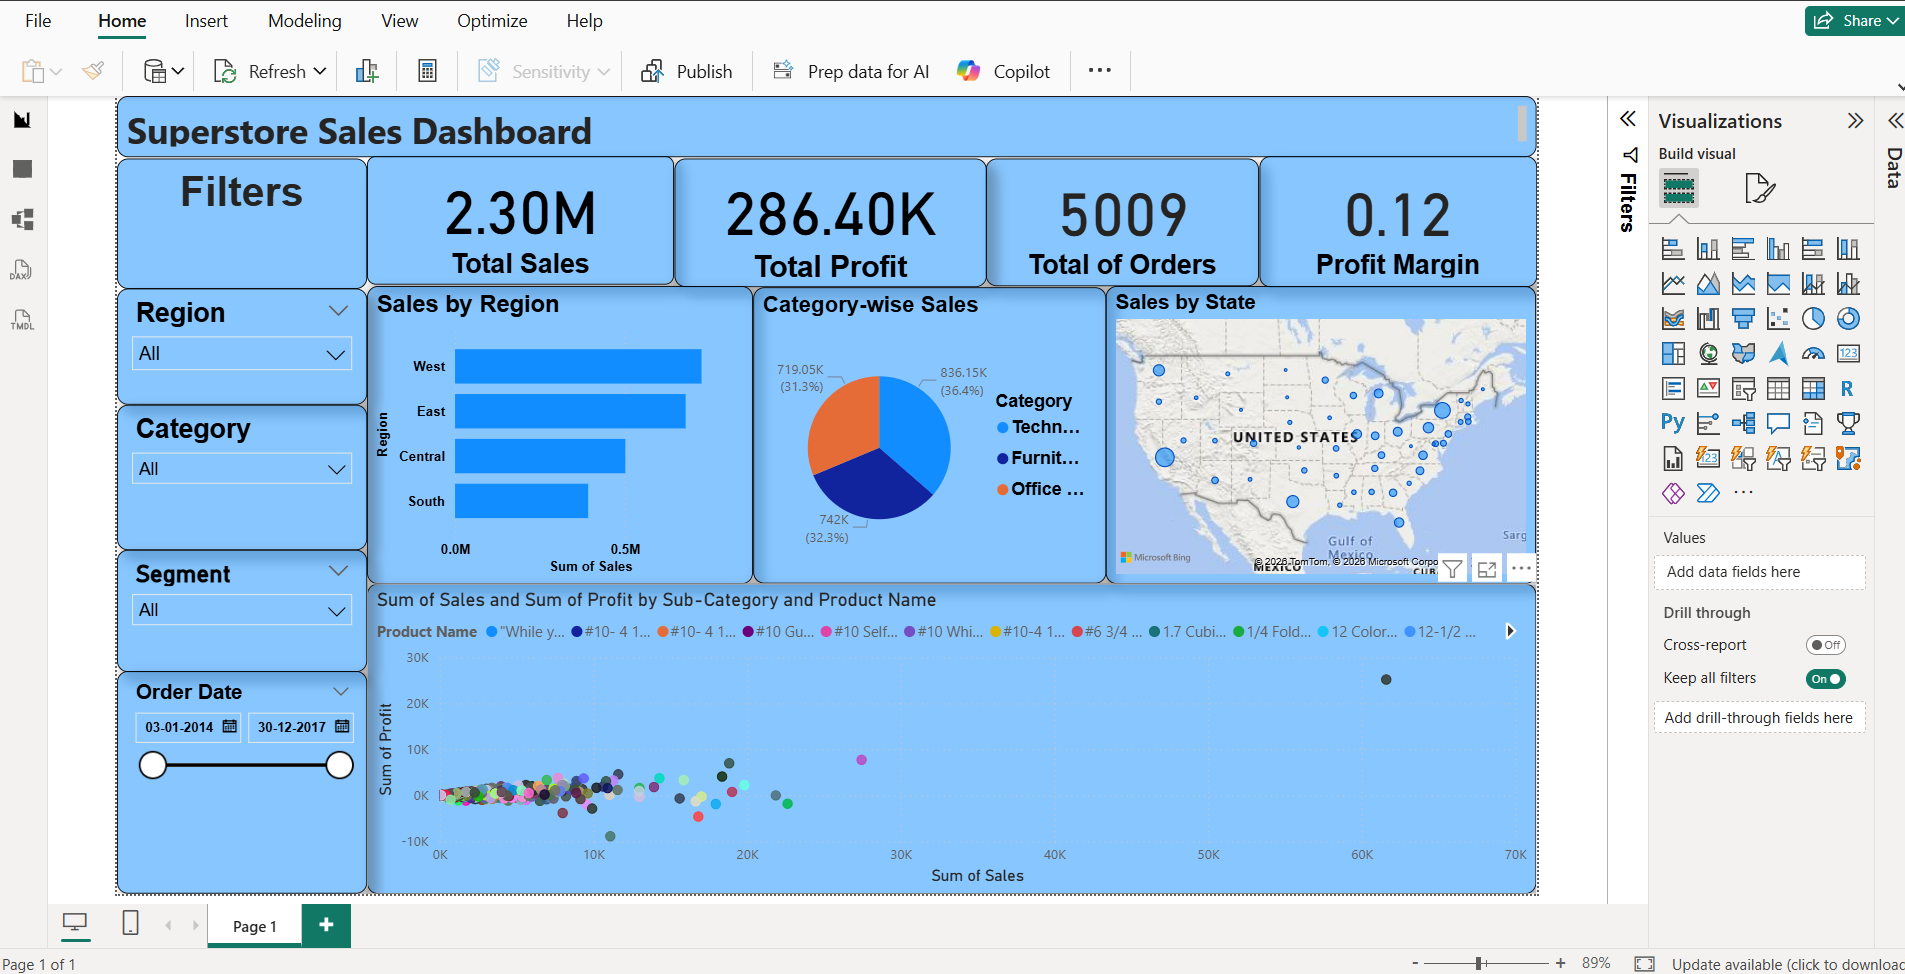

The page's visual inventory and layout, read from the dashboard file:
{"tool":"powerbi","page":{"name":"Page 1","canvas":[1280,720],"ordinal":0},"visuals":[{"type":"card","fields":{"Values":["clean_Sample_Superstore.Total of Orders"]},"box":[783.7,55.8,246.5,115.1],"z":0},{"type":"card","fields":{"Values":["clean_Sample_Superstore.Total Sales"]},"box":[225.6,54.7,276.7,116.3],"z":1000},{"type":"card","fields":{"Values":["clean_Sample_Superstore.Total Profit"]},"box":[502.6,56.3,281.3,116.2],"z":2000},{"type":"card","fields":{"Values":["clean_Sample_Superstore.Profit Margin"]},"box":[1030.2,54.7,250,118.6],"z":3000},{"type":"clusteredBarChart","title":"Sales by Region","fields":{"Y":["Sum(clean_Sample_Superstore.Sales)"],"Category":["clean_Sample_Superstore.Region"]},"box":[225.6,170.9,347.7,268.6],"z":4000},{"type":"pieChart","title":"Category-wise Sales","fields":{"Category":["clean_Sample_Superstore.Category"],"Y":["Sum(clean_Sample_Superstore.Sales)"]},"box":[573.3,172.1,318.6,267.4],"z":5000},{"type":"map","title":"Sales by State","fields":{"Category":["clean_Sample_Superstore.State"],"Size":["Sum(clean_Sample_Superstore.Sales)"]},"box":[891.9,170.9,388.4,268.6],"z":6000},{"type":"scatterChart","fields":{"X":["Sum(clean_Sample_Superstore.Sales)"],"Y":["Sum(clean_Sample_Superstore.Profit)"],"Category":["clean_Sample_Superstore.Sub-Category"],"Series":["clean_Sample_Superstore.Product Name"]},"box":[225.6,439.5,1054.7,280.2],"z":7000},{"type":"textbox","box":[0,0,1280.3,55],"z":8001},{"type":"slicer","fields":{"Values":["clean_Sample_Superstore.Region"]},"box":[0,173.3,225.6,104.7],"z":8003},{"type":"slicer","fields":{"Values":["clean_Sample_Superstore.Category"]},"box":[0,277.9,225.6,131.4],"z":8004},{"type":"slicer","fields":{"Values":["clean_Sample_Superstore.Segment"]},"box":[0,409.3,225.6,110.5],"z":8005},{"type":"textbox","box":[0,55.8,225.6,117.4],"z":8006},{"type":"slicer","fields":{"Values":["clean_Sample_Superstore.Order Date"]},"box":[0,518.6,225.6,201.2],"z":8007}]}

Visuals, with their boxes on the page's 1280x720 design canvas (x1, y1, x2, y2). These are canvas units, not pixel positions in the 1905x974 screenshot, which may show the page scaled, cropped or inside an application window:
card - clean_Sample_Superstore.Total of Orders: [784, 56, 1030, 171]
card - clean_Sample_Superstore.Total Sales: [226, 55, 502, 171]
card - clean_Sample_Superstore.Total Profit: [503, 56, 784, 172]
card - clean_Sample_Superstore.Profit Margin: [1030, 55, 1280, 173]
"Sales by Region" clusteredBarChart: [226, 171, 573, 440]
"Category-wise Sales" pieChart: [573, 172, 892, 440]
"Sales by State" map: [892, 171, 1280, 440]
scatterChart - Sum(clean_Sample_Superstore.Sales) x Sum(clean_Sample_Superstore.Profit): [226, 440, 1280, 720]
textbox: [0, 0, 1280, 55]
slicer - clean_Sample_Superstore.Region: [0, 173, 226, 278]
slicer - clean_Sample_Superstore.Category: [0, 278, 226, 409]
slicer - clean_Sample_Superstore.Segment: [0, 409, 226, 520]
textbox: [0, 56, 226, 173]
slicer - clean_Sample_Superstore.Order Date: [0, 519, 226, 720]
